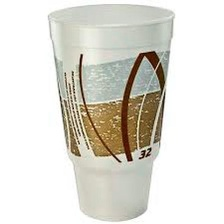paper_cup: (41, 0, 179, 224)
